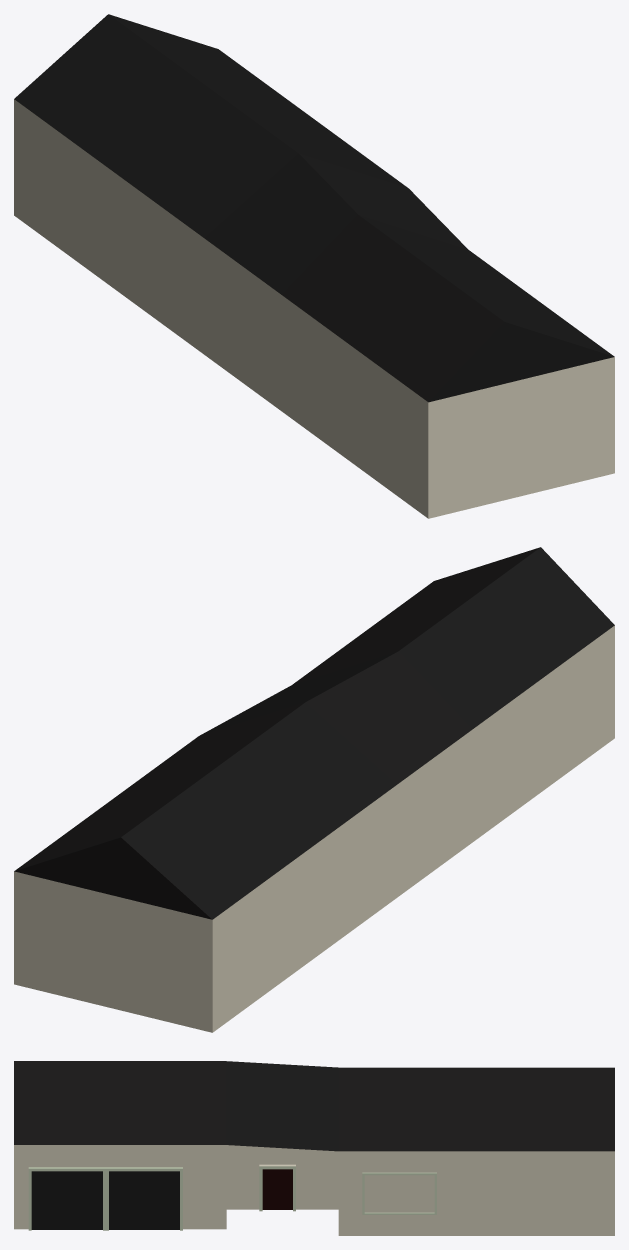
File: house.fbx
3 renders of one model, top to bottom at view 1: azimuth 30°, elevation 25°; view 2: azimuth 150°, elevation 25°; view 3: azimuth 270°, elevation 25°, orthographic. The views are drawn at different scales.
Visible parts, largest first — view 1: House; view 2: House; view 3: House.
Boxes of the visible parts, <box> form: House: <box>14,14,614,518</box>; House: <box>14,547,614,1032</box>; House: <box>14,1061,614,1235</box>.
Size of the model in its own units: 556 by 460 by 1935.
